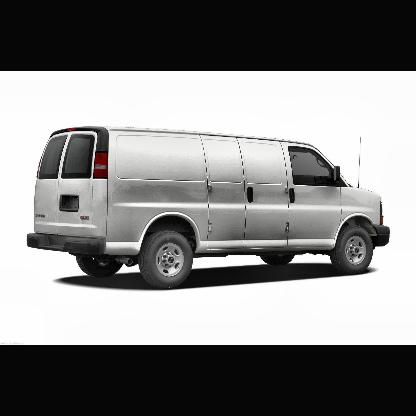GMC Savana Van 2012: (26, 123, 392, 291)
